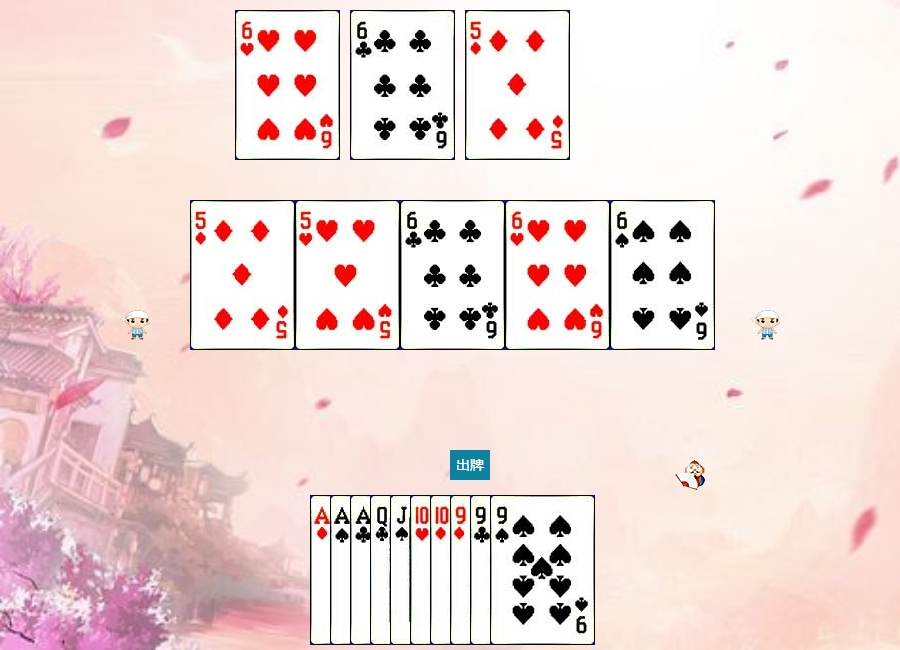10~1: (430, 495, 535, 645)
10~3: (410, 495, 515, 645)
11~4: (390, 495, 495, 645)
12~2: (370, 495, 475, 645)
14~1: (310, 495, 415, 645)
14~2: (350, 495, 455, 645)
14~4: (330, 495, 435, 645)
5~1: (465, 10, 570, 160), (190, 200, 295, 350)
5~3: (295, 200, 400, 350)
6~2: (350, 10, 455, 160), (400, 200, 505, 350)
6~3: (235, 10, 340, 160), (505, 200, 610, 350)
6~4: (610, 200, 715, 350)
9~1: (450, 495, 555, 645)
9~2: (470, 495, 575, 645)
9~4: (490, 495, 595, 645)
